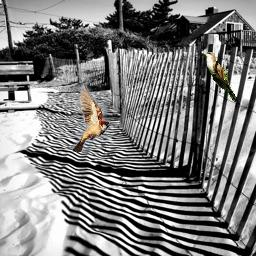Cuckoo: (201, 52, 237, 103)
Sparrow: (72, 84, 110, 153)
